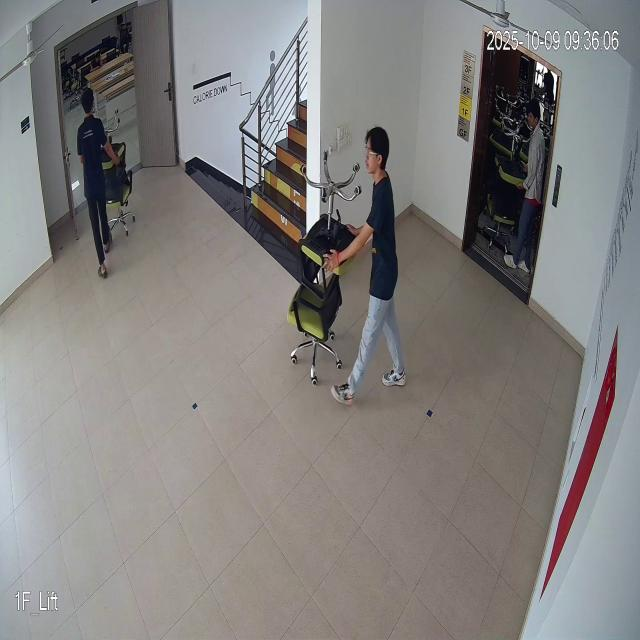face: (363, 114, 393, 178)
